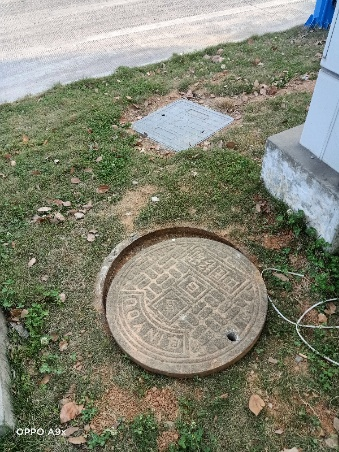uncovered: (95, 220, 269, 377)
